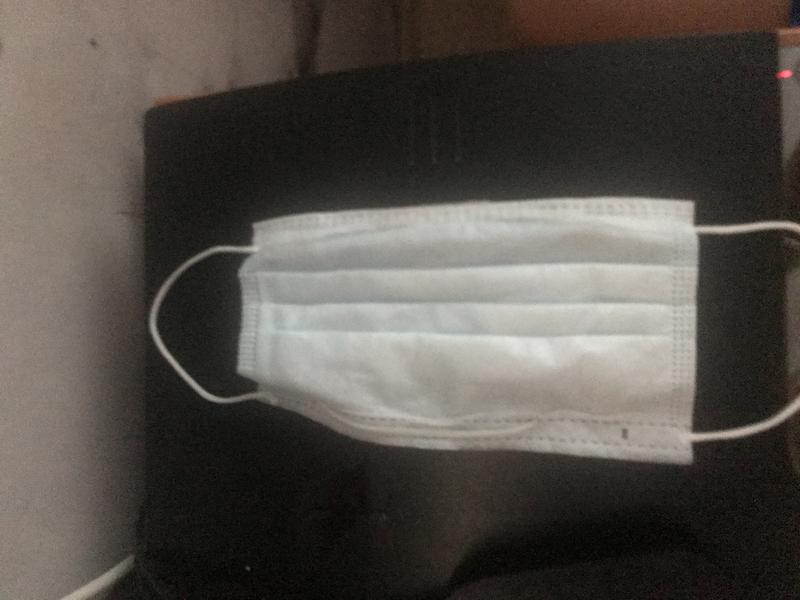medical_mask: (148, 197, 800, 461)
